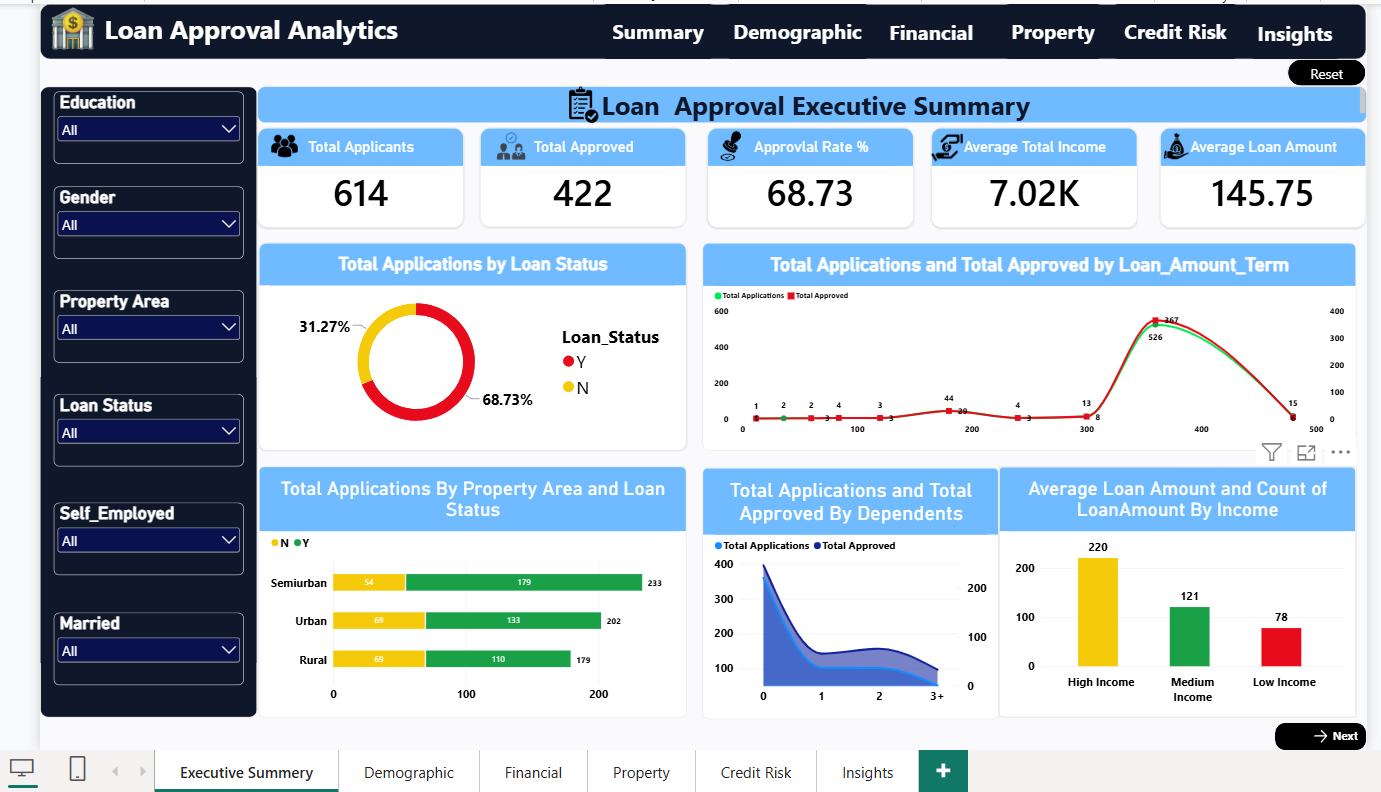

This screenshot's page, from the dashboard's own definition file:
{"tool":"powerbi","page":{"name":"Executive Summery","canvas":[1920,1080],"ordinal":0},"visuals":[{"type":"shape","box":[0,119.4,314.9,913.9],"z":0},{"type":"textbox","box":[0,0,1920,80],"z":1000},{"type":"textbox","box":[314.5,120,1605.5,52.7],"z":2000},{"type":"card","title":"Total Applicants","fields":{"Values":["l_approved.Total Applications"]},"box":[314.9,179.2,298.6,144.8],"z":3000},{"type":"card","title":"Total Approved","fields":{"Values":["l_approved.Total Approved"]},"box":[637,179.2,298.6,144],"z":4000},{"type":"card","title":"Approvlal Rate %","fields":{"Values":["l_approved.Approval Rate %"]},"box":[966.4,179.2,298.6,144.8],"z":5000},{"type":"card","title":"Average Total Income","fields":{"Values":["l_approved.Average Total Income"]},"box":[1290.3,179.2,298.6,144.8],"z":6000},{"type":"card","title":"Average Loan Amount","fields":{"Values":["l_approved.Average Loan Amount"]},"box":[1621.5,179.2,298.6,144.8],"z":7000},{"type":"donutChart","title":"Total Applications by Loan Status","fields":{"Category":["l_approved.Loan_Status"],"Y":["l_approved.Total Applications"]},"box":[316.7,345.6,618.9,300.4],"z":8000},{"type":"image","box":[0,3.6,95.9,63.3],"z":9000},{"type":"slicer","title":"Education","fields":{"Values":["l_approved.Education"]},"box":[19.9,126.7,275.1,105],"z":10000},{"type":"slicer","title":"Education","fields":{"Values":["l_approved.Gender"]},"box":[19.9,264.2,275.1,105],"z":11000},{"type":"slicer","title":"Education","fields":{"Values":["l_approved.Property_Area"]},"box":[19.9,414.4,275.1,105],"z":12000},{"type":"slicer","title":"Education","fields":{"Values":["l_approved.Loan_Status"]},"box":[19.9,564.6,275.1,105],"z":13000},{"type":"slicer","title":"Education","fields":{"Values":["l_approved.Self_Employed"]},"box":[19.9,722.1,275.1,105],"z":14000},{"type":"slicer","title":"Education","fields":{"Values":["l_approved.Married"]},"box":[19.9,881.3,275.1,105],"z":15000},{"type":"lineChart","fields":{"Category":["l_approved.Loan_Amount_Term"],"Y":["l_approved.Total Applications"],"Y2":["l_approved.Total Approved"]},"box":[959.1,345.6,946.5,300.4],"z":16000},{"type":"barChart","title":"Total Applications By Property Area and Loan Status","fields":{"Category":["l_approved.Property_Area"],"Y":["l_approved.Total Applications"],"Series":["l_approved.Loan_Status"]},"box":[316.7,669.6,619,363],"z":17000},{"type":"areaChart","title":"Total Applications and Total Approved By Dependents","fields":{"Category":["l_approved.Dependents"],"Y":["l_approved.Total Applications"],"Y2":["l_approved.Total Approved"]},"box":[959.1,671.4,428.9,363.7],"z":18000},{"type":"clusteredColumnChart","title":"Average Loan Amount and Count of LoanAmount By Income ","fields":{"Y":["l_approved.Average Loan Amount"],"Category":["l_approved.Income_Group"]},"box":[1388,670,517,364],"z":19000},{"type":"actionButton","box":[1806,79.6,114,39.8],"z":20000},{"type":"actionButton","box":[1787.9,1040.6,132.1,39.8],"z":21000},{"type":"actionButton","box":[805.3,0,179.2,79.6],"z":22000},{"type":"actionButton","box":[984.5,0,224.4,79.6],"z":23000},{"type":"actionButton","box":[1216.1,3.6,148.4,74.2],"z":24000},{"type":"actionButton","box":[1388,0,157.4,79.6],"z":25000},{"type":"actionButton","box":[1545.5,0,197.3,79.6],"z":26000},{"type":"actionButton","box":[1742.7,3.6,148.4,76],"z":27000},{"type":"image","box":[334.8,179.2,38,52.5],"z":28000},{"type":"image","box":[649.7,179.2,65.1,52.5],"z":29000},{"type":"image","box":[966.4,175.5,67,59.7],"z":30000},{"type":"image","box":[1290.3,175.5,45.2,65.1],"z":31000},{"type":"image","box":[1621.5,186.4,47.1,38],"z":32000},{"type":"image","box":[742,119.4,90.5,52.5],"z":33000}]}

Visuals, with their boxes on the page's 1920x1080 design canvas (x1, y1, x2, y2). These are canvas units, not pixel positions in the 1381x792 screenshot, which may show the page scaled, cropped or inside an application window:
shape: detection(0, 119, 315, 1033)
textbox: detection(0, 0, 1920, 80)
textbox: detection(314, 120, 1920, 173)
"Total Applicants" card: detection(315, 179, 614, 324)
"Total Approved" card: detection(637, 179, 936, 323)
"Approvlal Rate %" card: detection(966, 179, 1265, 324)
"Average Total Income" card: detection(1290, 179, 1589, 324)
"Average Loan Amount" card: detection(1622, 179, 1920, 324)
"Total Applications by Loan Status" donutChart: detection(317, 346, 936, 646)
image: detection(0, 4, 96, 67)
"Education" slicer: detection(20, 127, 295, 232)
"Education" slicer: detection(20, 264, 295, 369)
"Education" slicer: detection(20, 414, 295, 519)
"Education" slicer: detection(20, 565, 295, 670)
"Education" slicer: detection(20, 722, 295, 827)
"Education" slicer: detection(20, 881, 295, 986)
lineChart - l_approved.Loan_Amount_Term x l_approved.Total Applications: detection(959, 346, 1906, 646)
"Total Applications By Property Area and Loan Status" barChart: detection(317, 670, 936, 1033)
"Total Applications and Total Approved By Dependents" areaChart: detection(959, 671, 1388, 1035)
"Average Loan Amount and Count of LoanAmount By Income " clusteredColumnChart: detection(1388, 670, 1905, 1034)
actionButton: detection(1806, 80, 1920, 119)
actionButton: detection(1788, 1041, 1920, 1080)
actionButton: detection(805, 0, 984, 80)
actionButton: detection(984, 0, 1209, 80)
actionButton: detection(1216, 4, 1364, 78)
actionButton: detection(1388, 0, 1545, 80)
actionButton: detection(1546, 0, 1743, 80)
actionButton: detection(1743, 4, 1891, 80)
image: detection(335, 179, 373, 232)
image: detection(650, 179, 715, 232)
image: detection(966, 176, 1033, 235)
image: detection(1290, 176, 1336, 241)
image: detection(1622, 186, 1669, 224)
image: detection(742, 119, 832, 172)
